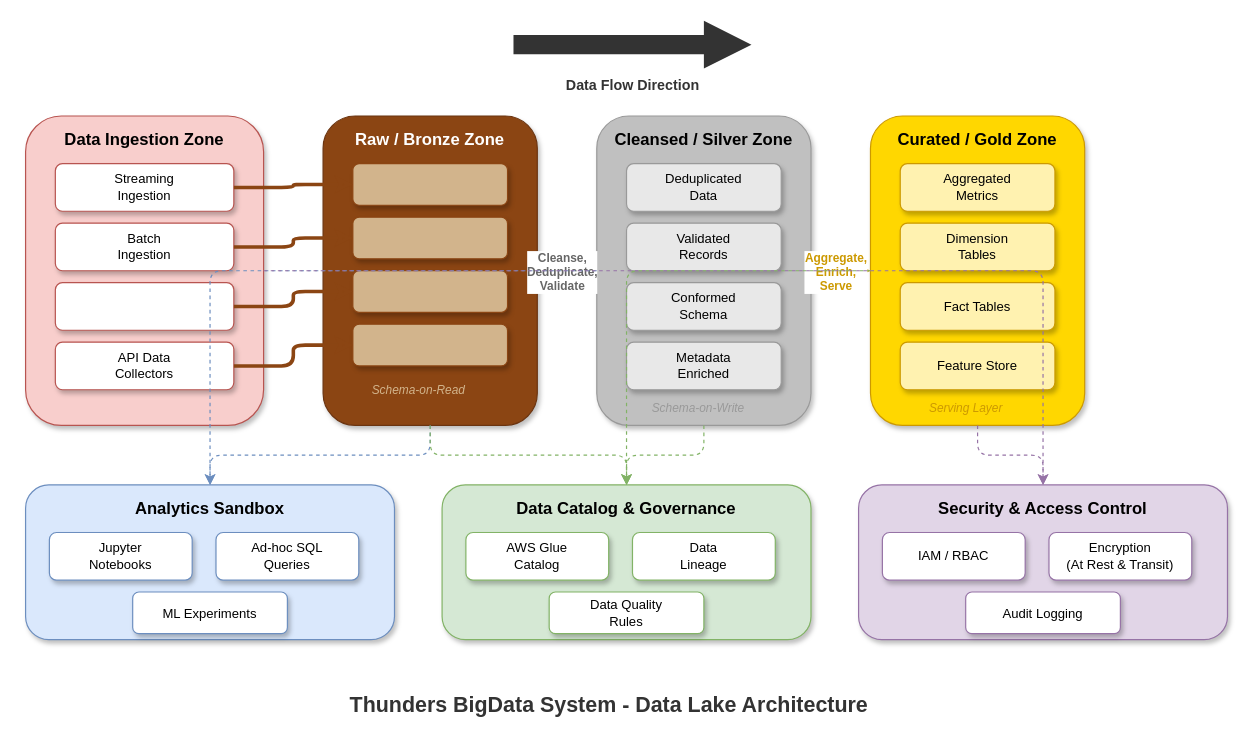
The diagram is 1255 pixels wide and 743 high, and some of its shapes have lost their labels. The centre of each missing label's shape, as x and y in pixels:
Application Logs: the point at 431,239
Change Data Capture (CDC): the point at 145,308
DB Dumps: the point at 431,293
Raw Events: the point at 431,186
Sensor Data: the point at 431,346
